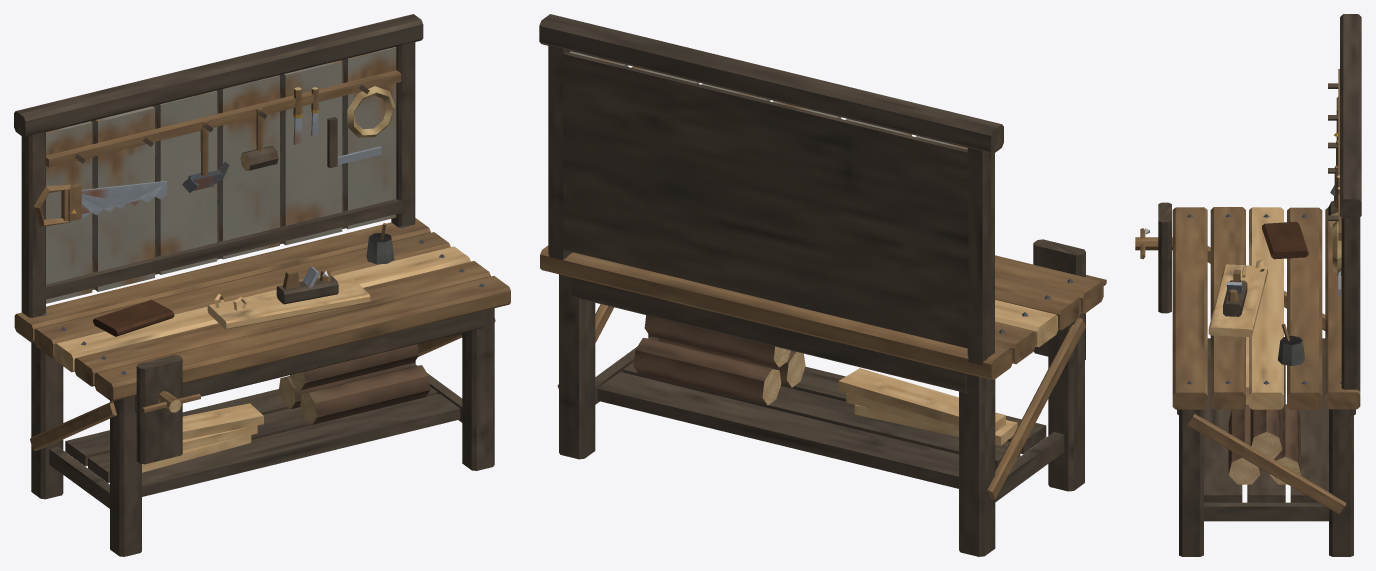
File: SM_Workbench_Level02.fbx
3 views of the same model, side by side, from view 1: azimuth 30°, elevation 25°; view 2: azimuth 150°, elevation 25°; view 3: azimuth 270°, elevation 25° (orthographic). The views are drawn at different scales.
Visible parts, largest first — view 1: SM_Workbench_Level02; view 2: SM_Workbench_Level02; view 3: SM_Workbench_Level02.
Boxes of the visible parts, <box> form: SM_Workbench_Level02: <box>14,14,510,556</box>; SM_Workbench_Level02: <box>539,14,1106,556</box>; SM_Workbench_Level02: <box>1135,14,1361,556</box>.
Size of the model in its own units: 7 by 6.4 by 3.62.
1 material, 1 textured.
